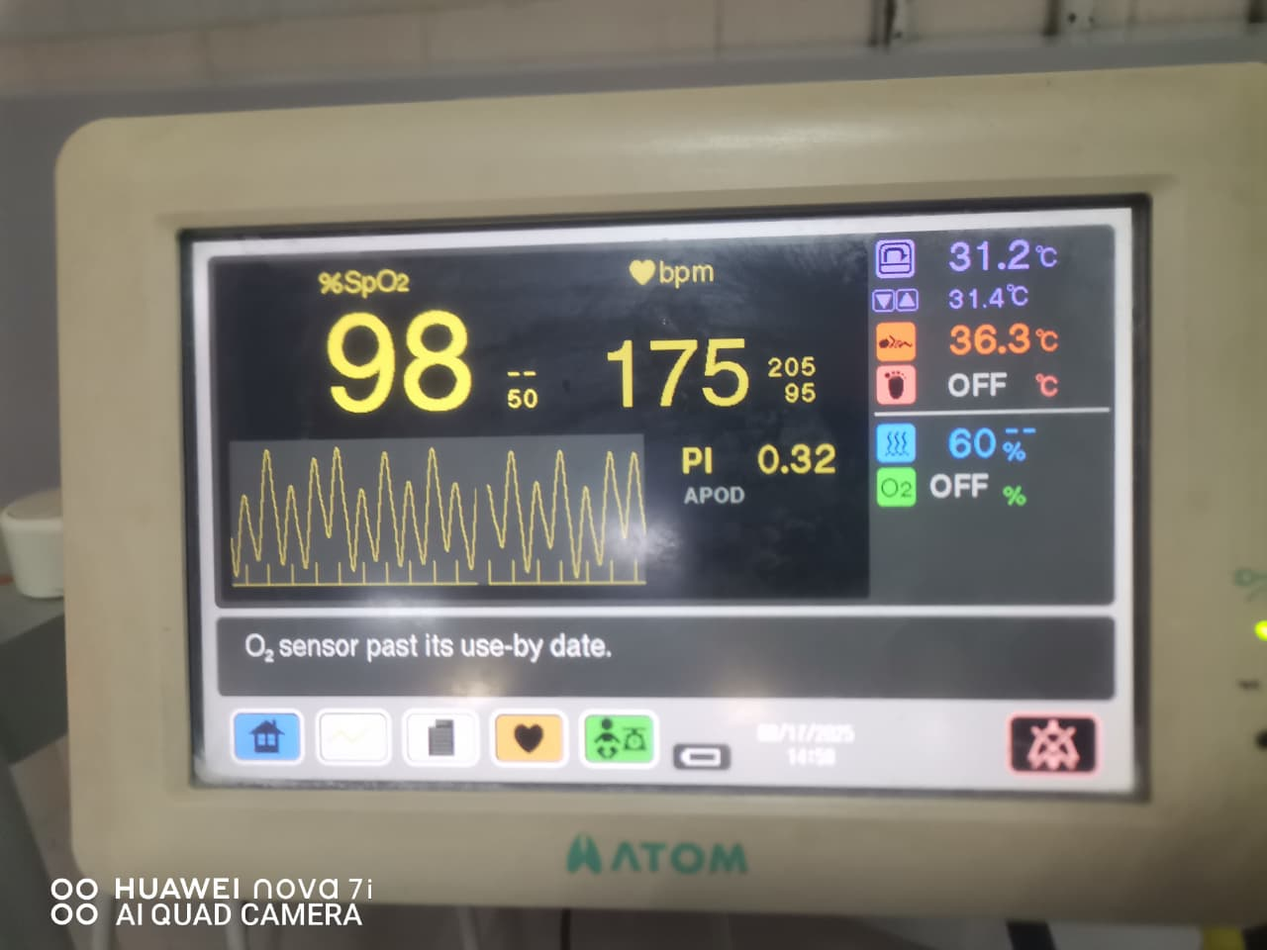air_temp_value: (922, 223, 1036, 289)
heart_rate_value: (595, 319, 758, 426)
humidity_value: (938, 420, 1003, 468)
skin_temp_value: (937, 318, 1034, 367)
spo2_value: (312, 303, 484, 423)
